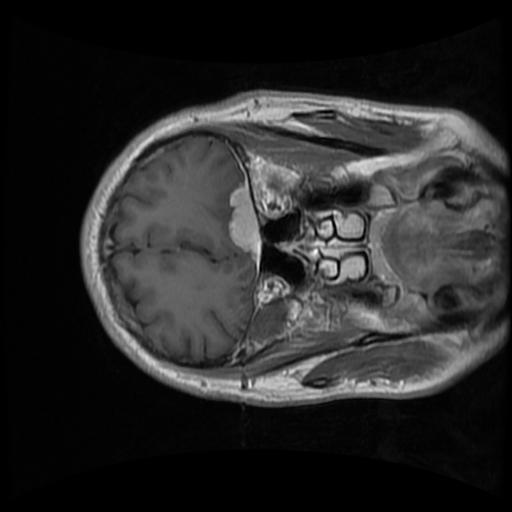meningioma: (228, 180, 257, 260)
